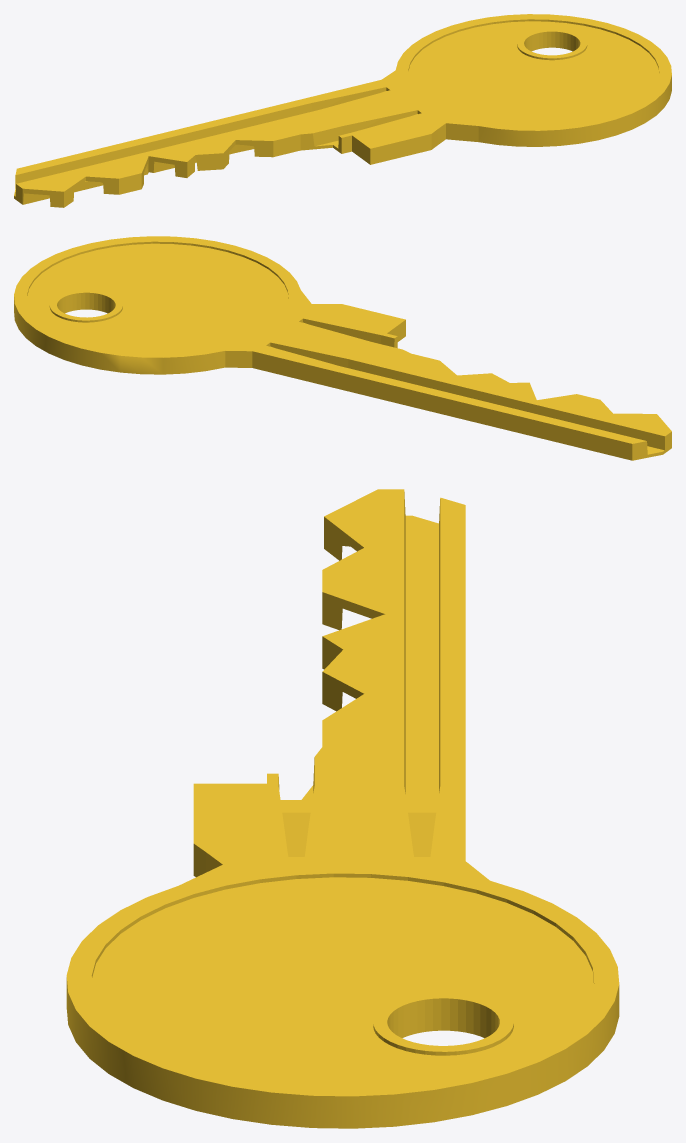
The model's file is key.fbx.
The picture shows the model from 3 angles, top to bottom: view 1: azimuth 30°, elevation 25°; view 2: azimuth 150°, elevation 25°; view 3: azimuth 270°, elevation 25°; orthographic projection. The views are drawn at different scales.
Visible parts, largest first — view 1: Cylinder.016; view 2: Cylinder.016; view 3: Cylinder.016.
Part boxes in pixels (x1=…): Cylinder.016: x1=14, y1=14, x2=671, y2=207; Cylinder.016: x1=14, y1=236, x2=671, y2=460; Cylinder.016: x1=66, y1=489, x2=619, y2=1128.
Bounding box in the file's own units: 686 × 17 × 264.
